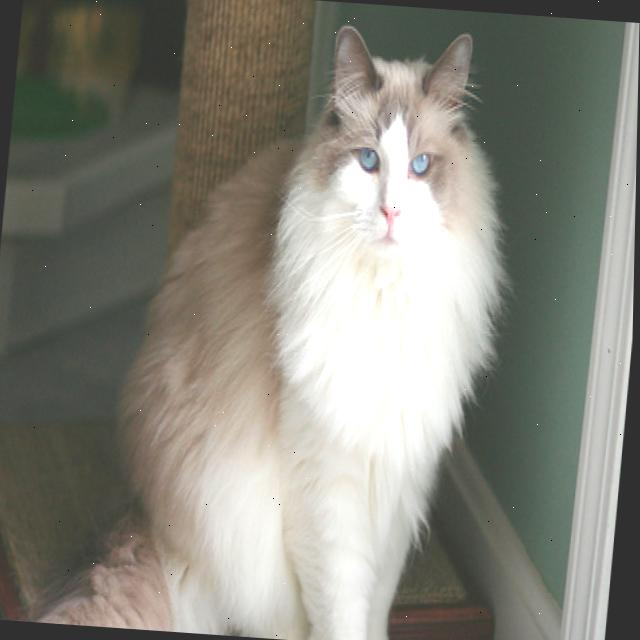Ragdoll: (0, 0, 532, 640)
